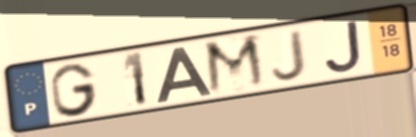1: (121, 48, 149, 110)
A: (155, 44, 215, 105)
G: (48, 61, 101, 119)
J: (323, 18, 365, 74), (269, 27, 308, 83)
M: (201, 31, 271, 98)
